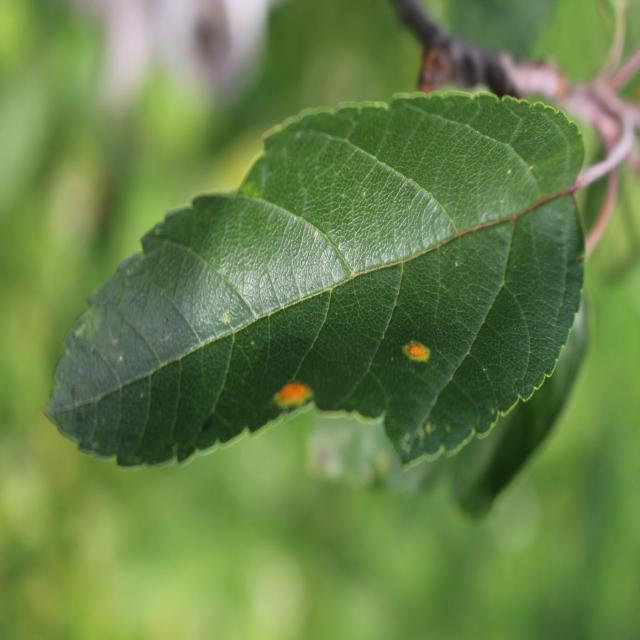Rust: (270, 355, 320, 428), (392, 332, 439, 371)
